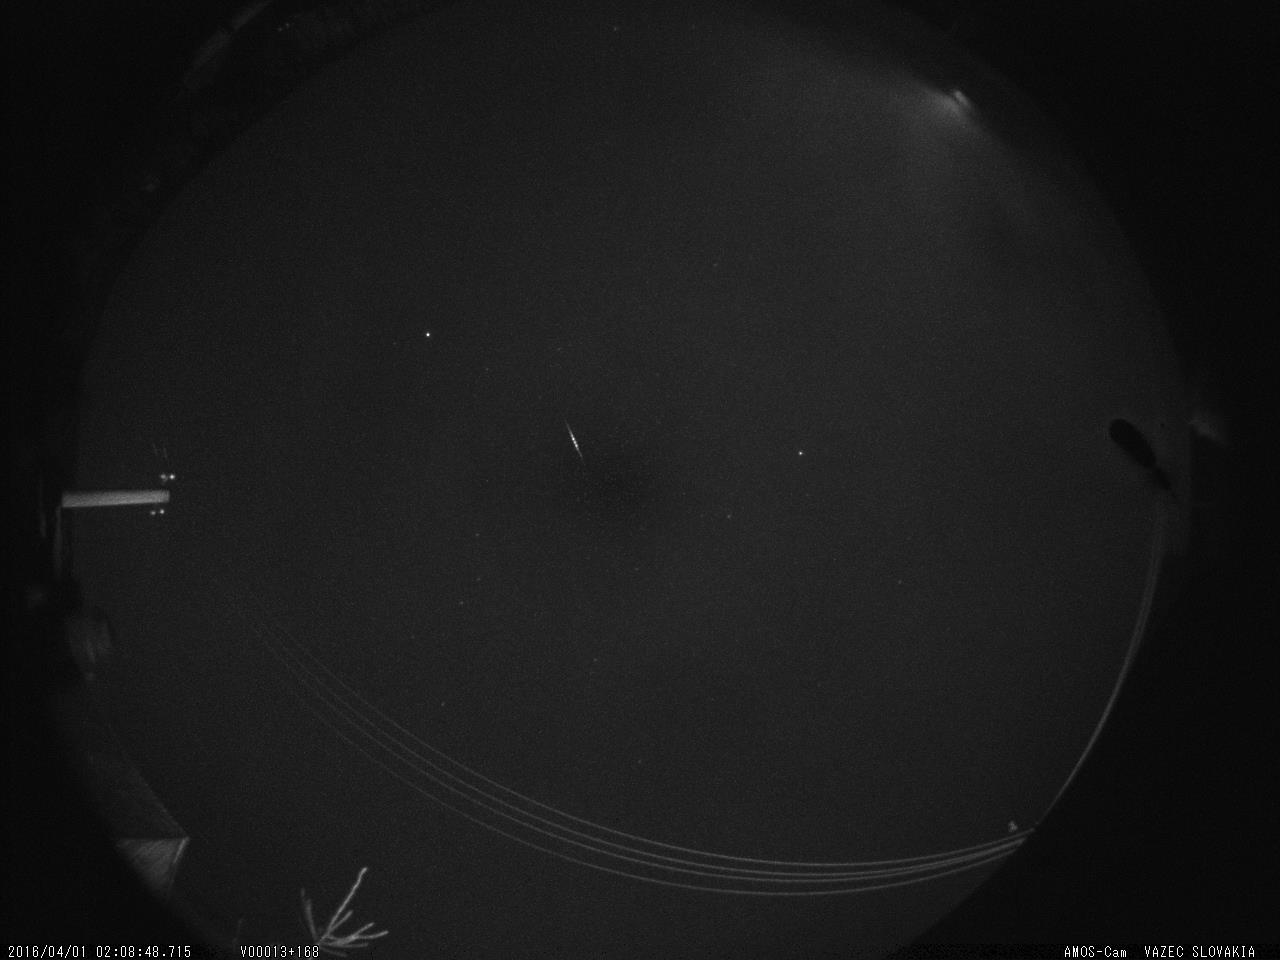meteor: (547, 409, 601, 477)
